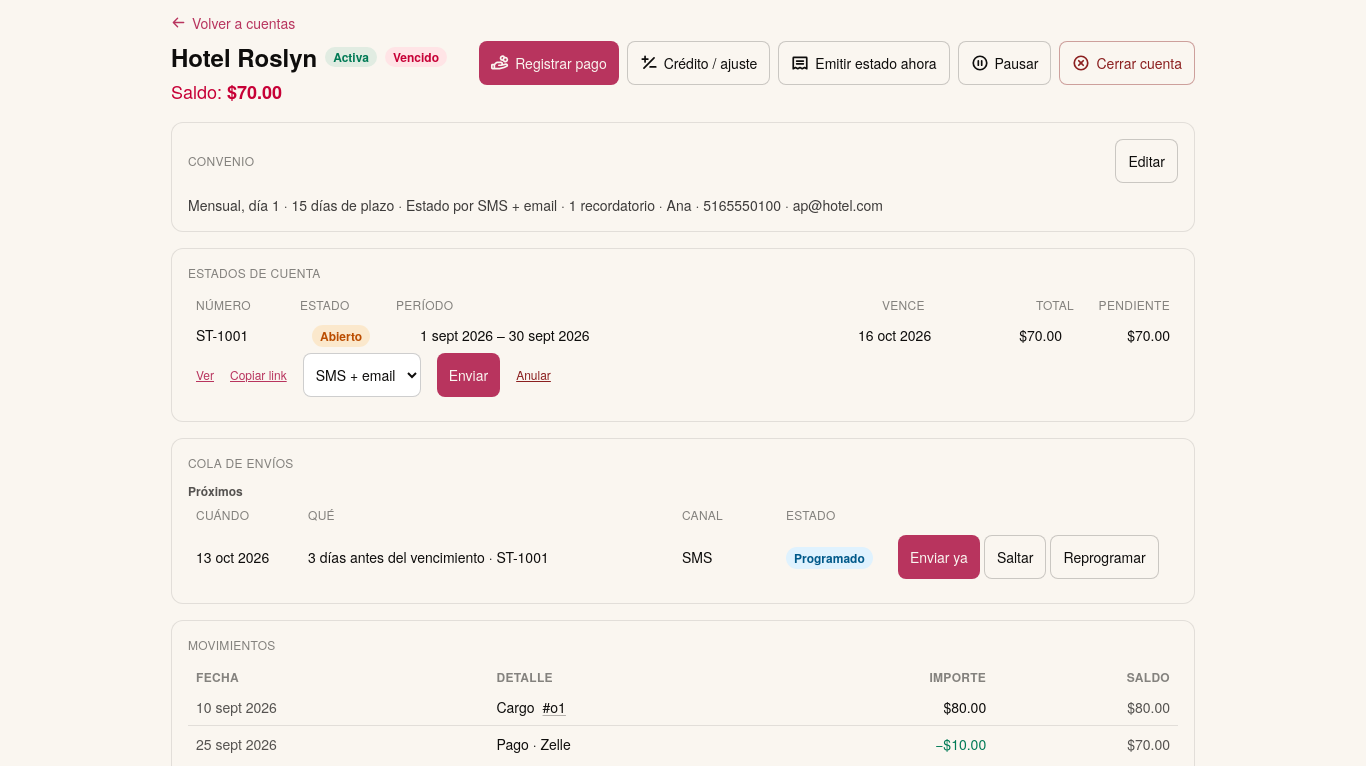
AccountDetail › when the server issues nothing › says there is nothing to issue when the last statement closed earlier
Step 1. Click the button "Emitir estado ahora" → (864, 62), box [778,40,950,84]
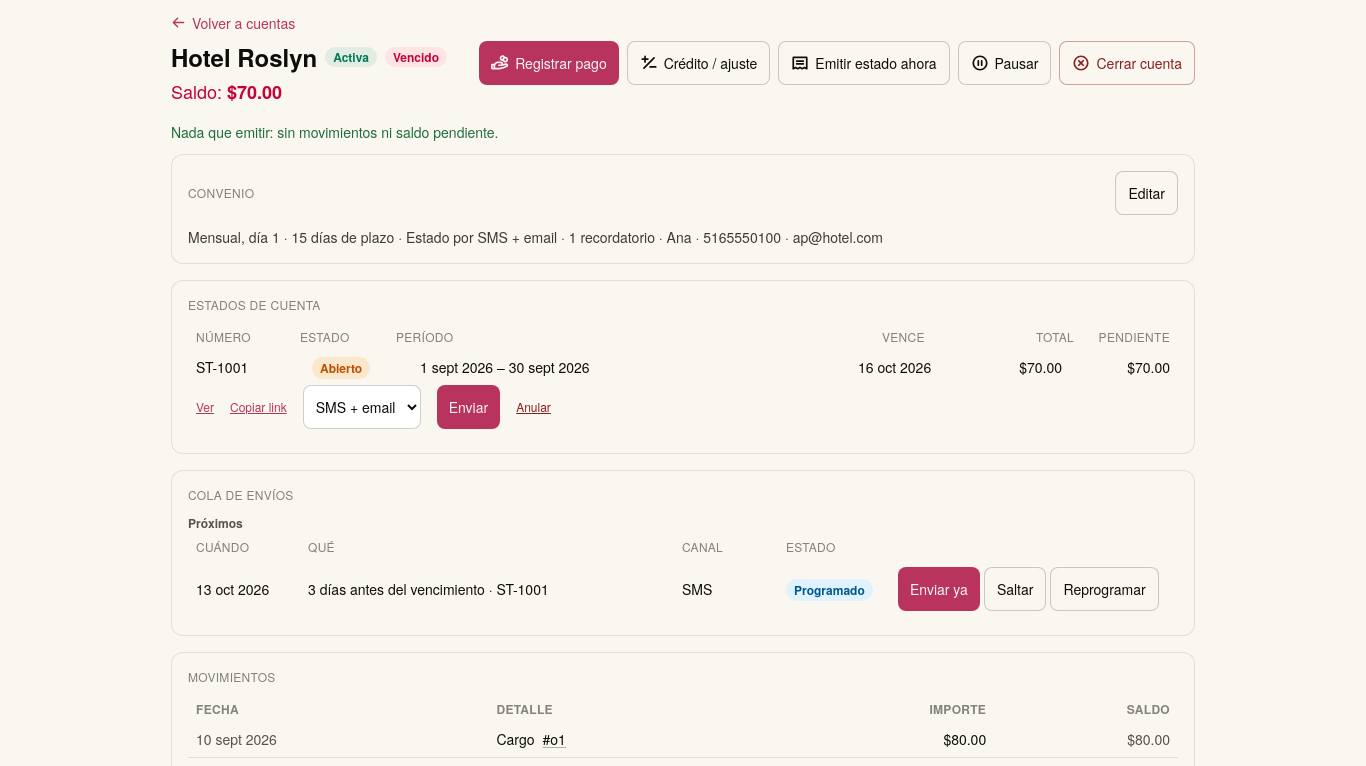
Result: the text "Nada que emitir: sin movimientos ni saldo pendiente." is shown at [171,122,498,142]
